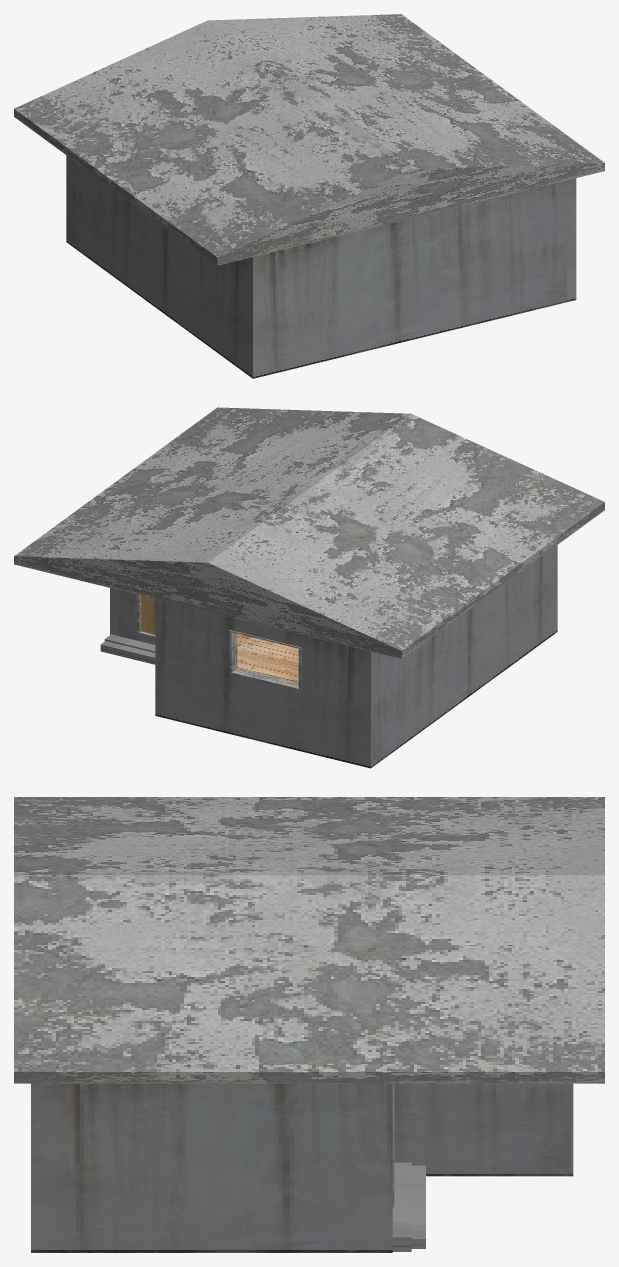
File: House.glb
The picture shows the model from 3 angles, top to bottom: view 1: azimuth 30°, elevation 25°; view 2: azimuth 150°, elevation 25°; view 3: azimuth 270°, elevation 25°; orthographic projection. The views are drawn at different scales.
Parts seen in each view (by area): view 1: Roof, House; view 2: Roof, House, Window, Door; view 3: Roof, House.
Boxes of the visible parts, bbox=[...] form: Roof: bbox=[14, 14, 604, 265]; House: bbox=[66, 155, 576, 378]; Roof: bbox=[14, 407, 604, 658]; House: bbox=[100, 545, 557, 768]; Window: bbox=[229, 630, 301, 690]; Door: bbox=[141, 595, 155, 634]; Roof: bbox=[14, 797, 604, 1083]; House: bbox=[31, 1083, 573, 1252].
Size of what is drawn, in the model's own units: 16.18 by 7.05 by 14.71.
Materials: 4 (4 with a texture image).
